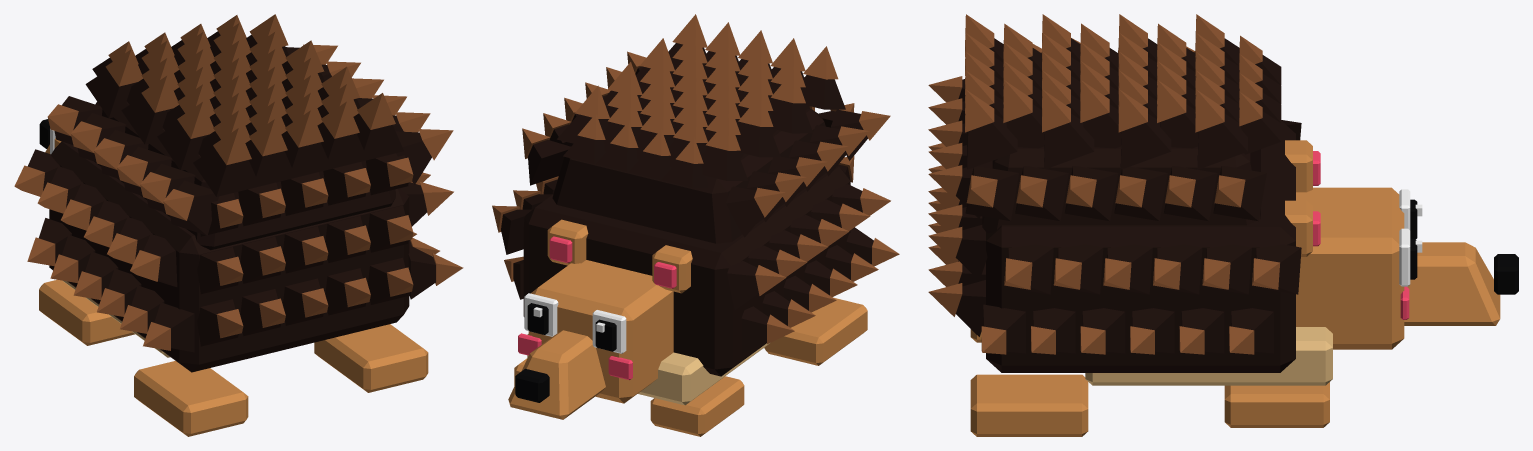
The model's file is Hedgehog.obj.
3 views of the same model, side by side, from view 1: azimuth 30°, elevation 25°; view 2: azimuth 150°, elevation 25°; view 3: azimuth 270°, elevation 25° (orthographic). The views are drawn at different scales.
Visible parts, largest first — view 1: Hedgehog; view 2: Hedgehog; view 3: Hedgehog.
Boxes of the visible parts, x1,y1,x2,y2 form: Hedgehog: (14,14,463,436); Hedgehog: (492,14,899,436); Hedgehog: (928,14,1518,436).
Bounding box in the file's own units: 6.49 × 5.77 × 9.54.
